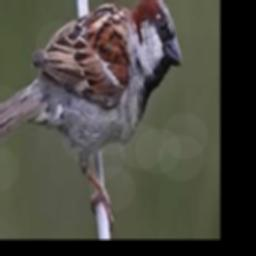Sparrow: (0, 0, 181, 227)
